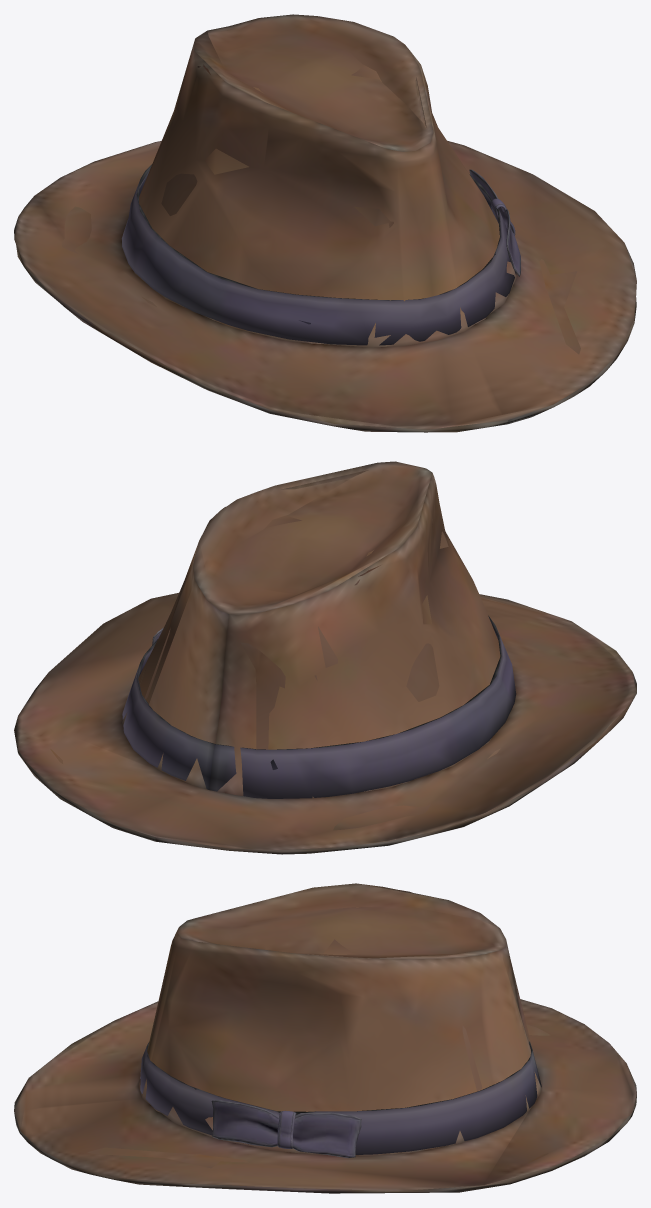
Rendered from fedorahat.glb.
The picture shows the model from 3 angles, top to bottom: view 1: azimuth 30°, elevation 25°; view 2: azimuth 150°, elevation 25°; view 3: azimuth 270°, elevation 25°; orthographic projection. The views are drawn at different scales.
Parts seen in each view (by area): view 1: Object_4, Object_6, Object_8; view 2: Object_4, Object_6; view 3: Object_4, Object_6, Object_8, Object_10.
Boxes of the visible parts, box(x1,y1,x2,y2) form: Object_4: box(14, 14, 636, 432); Object_6: box(121, 164, 516, 345); Object_8: box(469, 169, 520, 276); Object_4: box(14, 461, 636, 854); Object_6: box(122, 615, 516, 798); Object_4: box(14, 883, 636, 1193); Object_6: box(140, 1041, 541, 1154); Object_8: box(211, 1100, 361, 1158); Object_10: box(277, 1110, 296, 1148).
Size of the model in its own units: 2.88 by 1.23 by 3.57.
Materials: 1 (1 with a texture image).
